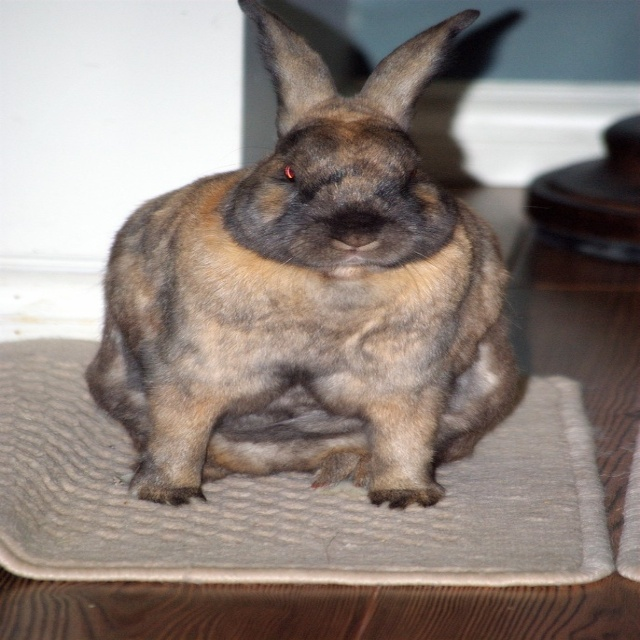Rabbit: (80, 0, 527, 510)
